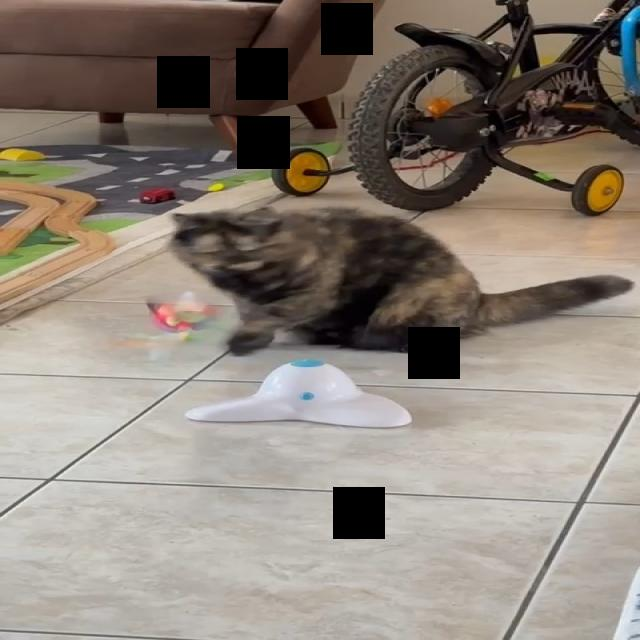authorized: (167, 204, 633, 356)
